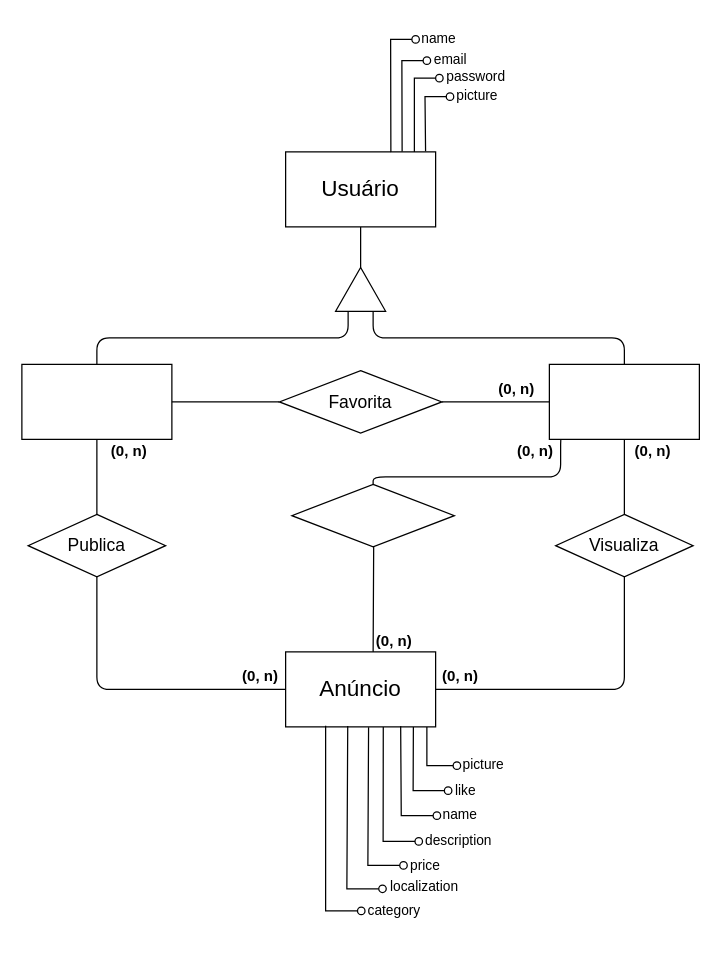
The diagram is 721 pixels wide and 953 high, and some of its shapes have lost their labels. Each missing label, with the box of its shape:
Comprador: (548, 363, 699, 439)
Curte: (291, 483, 454, 547)
Produtor: (21, 363, 172, 439)
